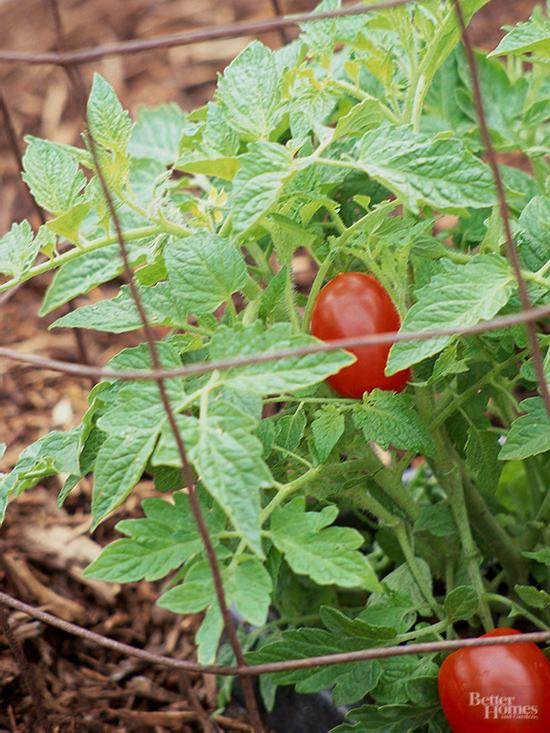Tomato leaf: (387, 246, 531, 373), (84, 379, 201, 534), (171, 393, 278, 549), (353, 130, 521, 221), (244, 612, 406, 700), (256, 501, 377, 601), (77, 492, 203, 586), (35, 225, 142, 319), (211, 40, 298, 145), (217, 331, 349, 396), (162, 225, 240, 319), (345, 386, 440, 460), (21, 137, 86, 216), (74, 73, 127, 168)
